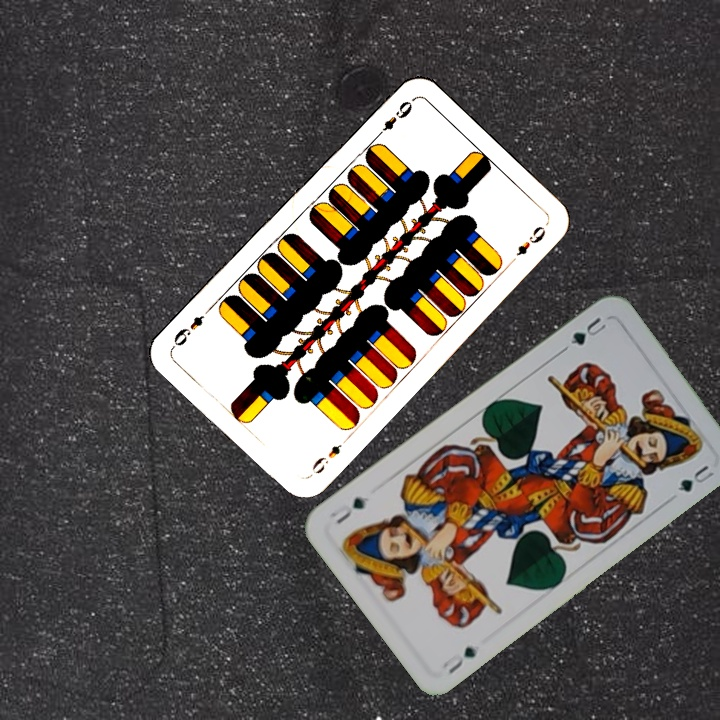E9: (370, 96, 416, 142), (307, 440, 345, 477)
GU: (566, 313, 609, 348), (437, 642, 480, 677)
